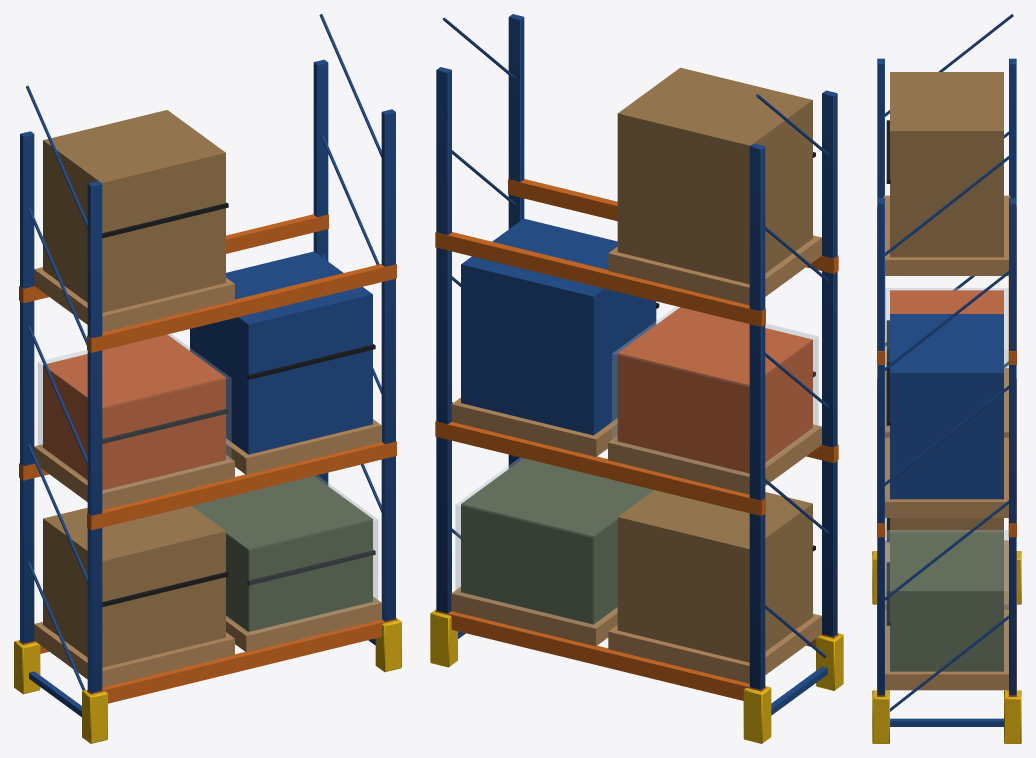
The model's file is pallet_rack_bay_loaded.glb.
3 renders of one model, left to right at view 1: azimuth 30°, elevation 25°; view 2: azimuth 150°, elevation 25°; view 3: azimuth 270°, elevation 25°, orthographic. The views are drawn at different scales.
Visible parts, largest first — view 1: pallet_rack_bay_loaded; view 2: pallet_rack_bay_loaded; view 3: pallet_rack_bay_loaded.
Part boxes in pixels (box(x1,y1,x2,y2)): pallet_rack_bay_loaded: box(14, 14, 401, 743); pallet_rack_bay_loaded: box(430, 14, 843, 743); pallet_rack_bay_loaded: box(872, 14, 1021, 743).
Size of the model in its own units: 2.76 by 5.11 by 1.18.
